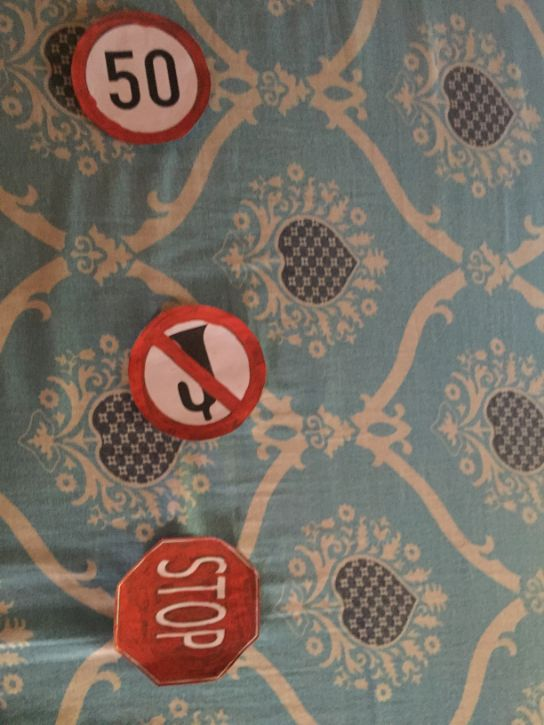no-horn: (128, 296, 268, 445)
speed-50: (67, 7, 216, 148)
stop: (101, 531, 264, 692)
